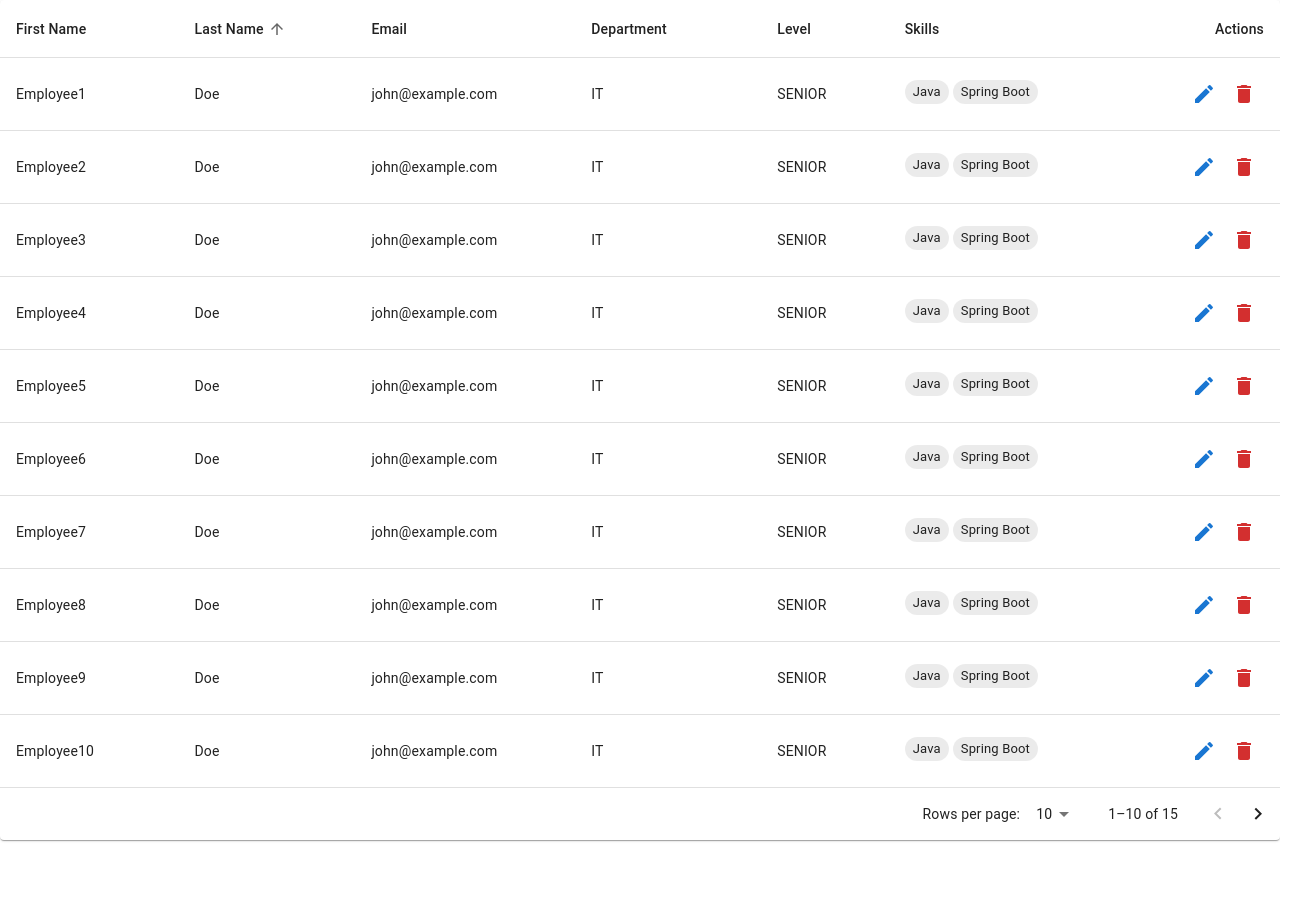
Test: EmployeeTable › should support pagination
Check: the text "Employee1" is shown, box [0,58,178,131]
Check: the text "Employee11" is not shown
# Navigate to next page
Click the button named "next page" at (1258, 814), box [1238,794,1278,834]
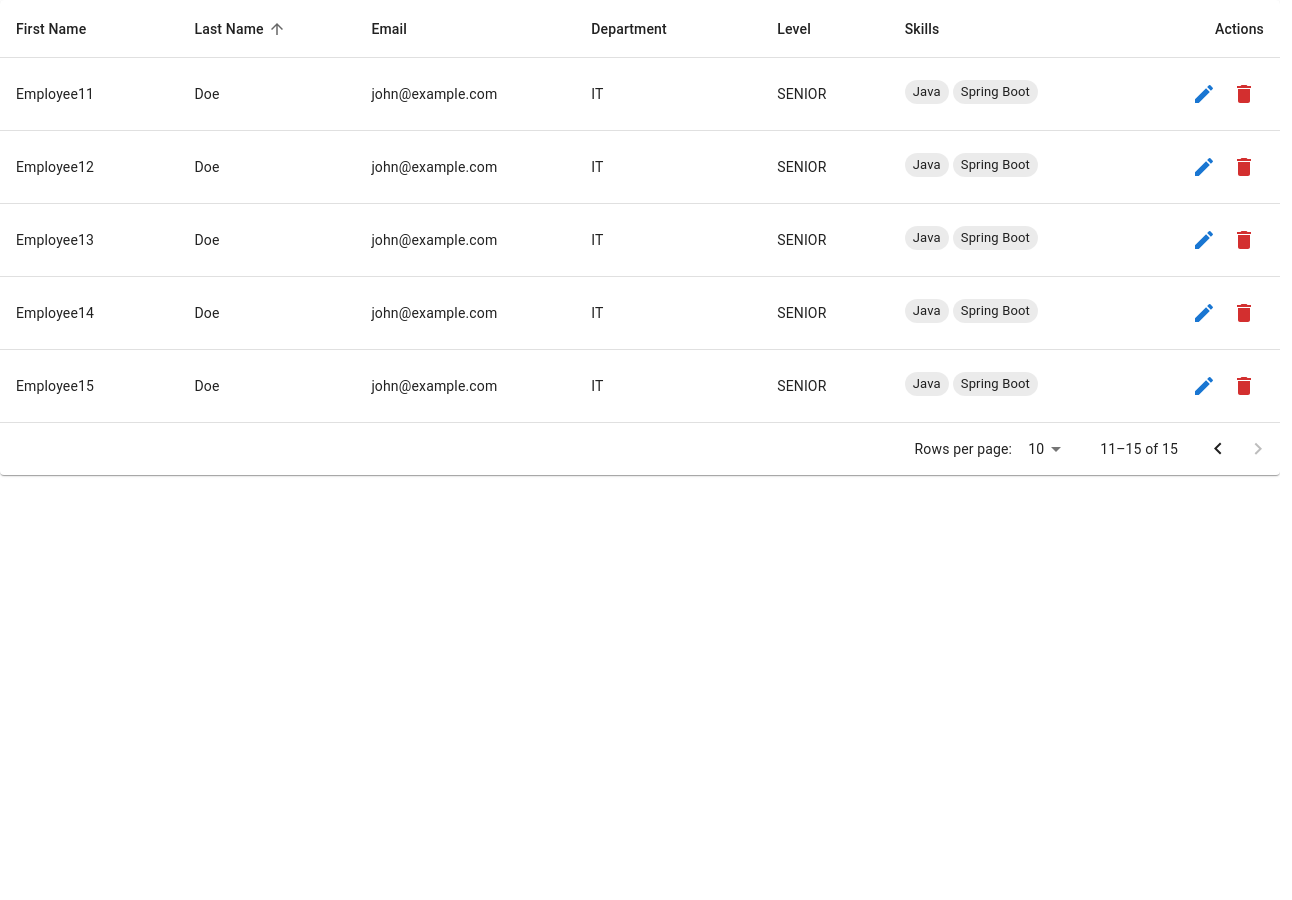
Check: the text "Employee11" is shown, box [0,58,178,131]
